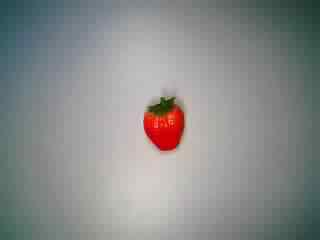strawberry: (127, 94, 195, 158)
